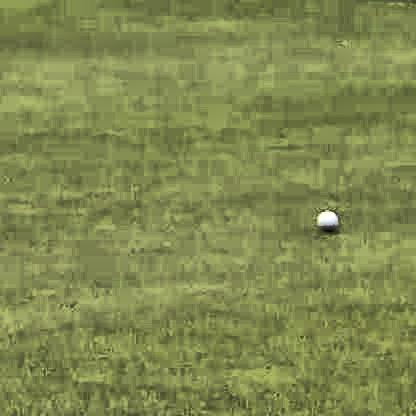golfball: (314, 206, 337, 231)
